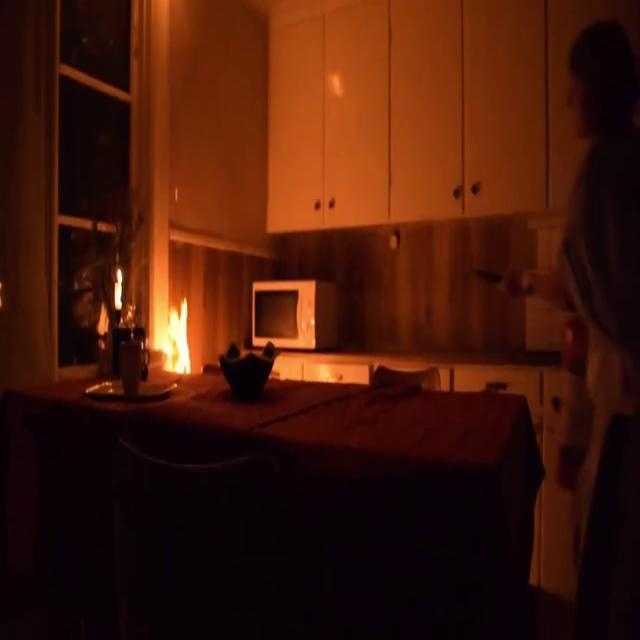Fire: (140, 261, 203, 380)
